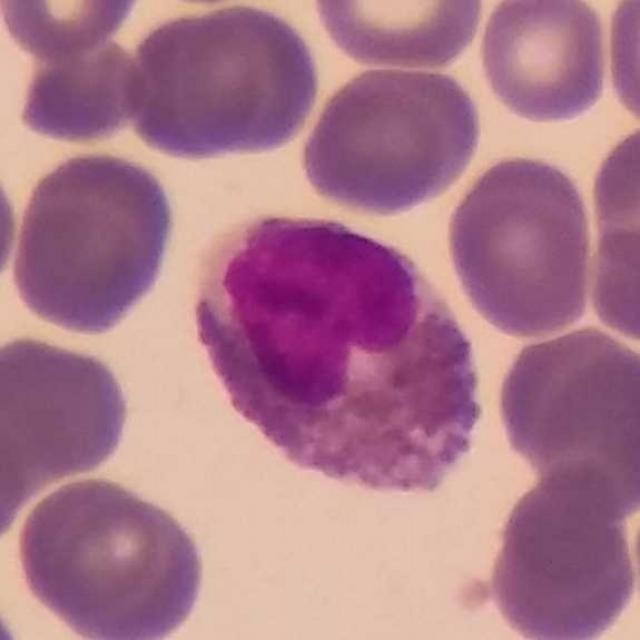eosino: (193, 213, 482, 495)
